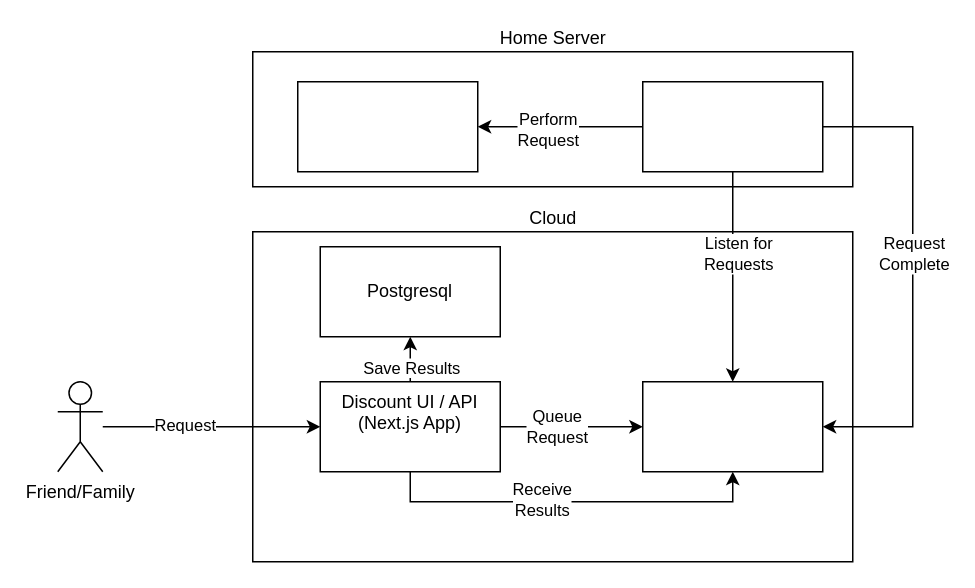
The diagram is 975 pixels wide and 588 high, and some of its shapes have lost their labels. The shapes that lost their labels are listed below. From the top down, each one's centre as x and y in pixels, then its label:
the point at 387,126: Puppeteer Script (Node.js script)
the point at 732,126: Request Manager (Go Service)
the point at 732,426: Message Broker
